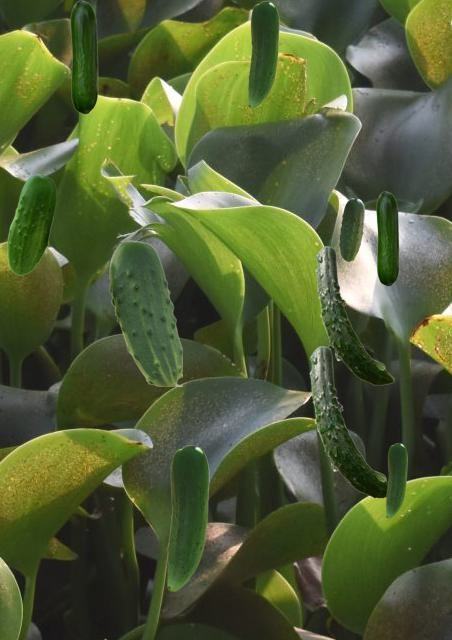cucumber: (309, 346, 387, 497), (315, 246, 393, 384), (109, 240, 181, 385), (167, 445, 208, 590), (7, 174, 55, 274), (248, 1, 278, 107), (70, 0, 97, 113), (376, 191, 398, 285), (339, 198, 363, 260), (386, 443, 406, 517)
